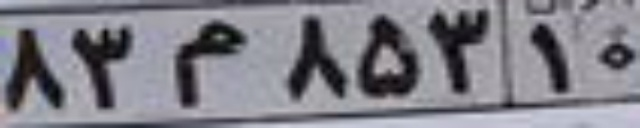0: (592, 43, 637, 70)
1: (531, 23, 574, 93)
3: (70, 25, 138, 109), (428, 12, 493, 95)
5: (360, 16, 420, 99)
8: (281, 18, 352, 100), (4, 26, 68, 111)
mim: (164, 19, 250, 110)
